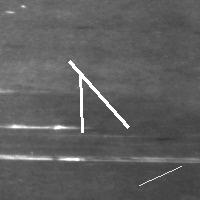scratches: (64, 56, 133, 132), (1, 149, 197, 165), (134, 161, 186, 190), (1, 122, 93, 133), (75, 67, 87, 137)
